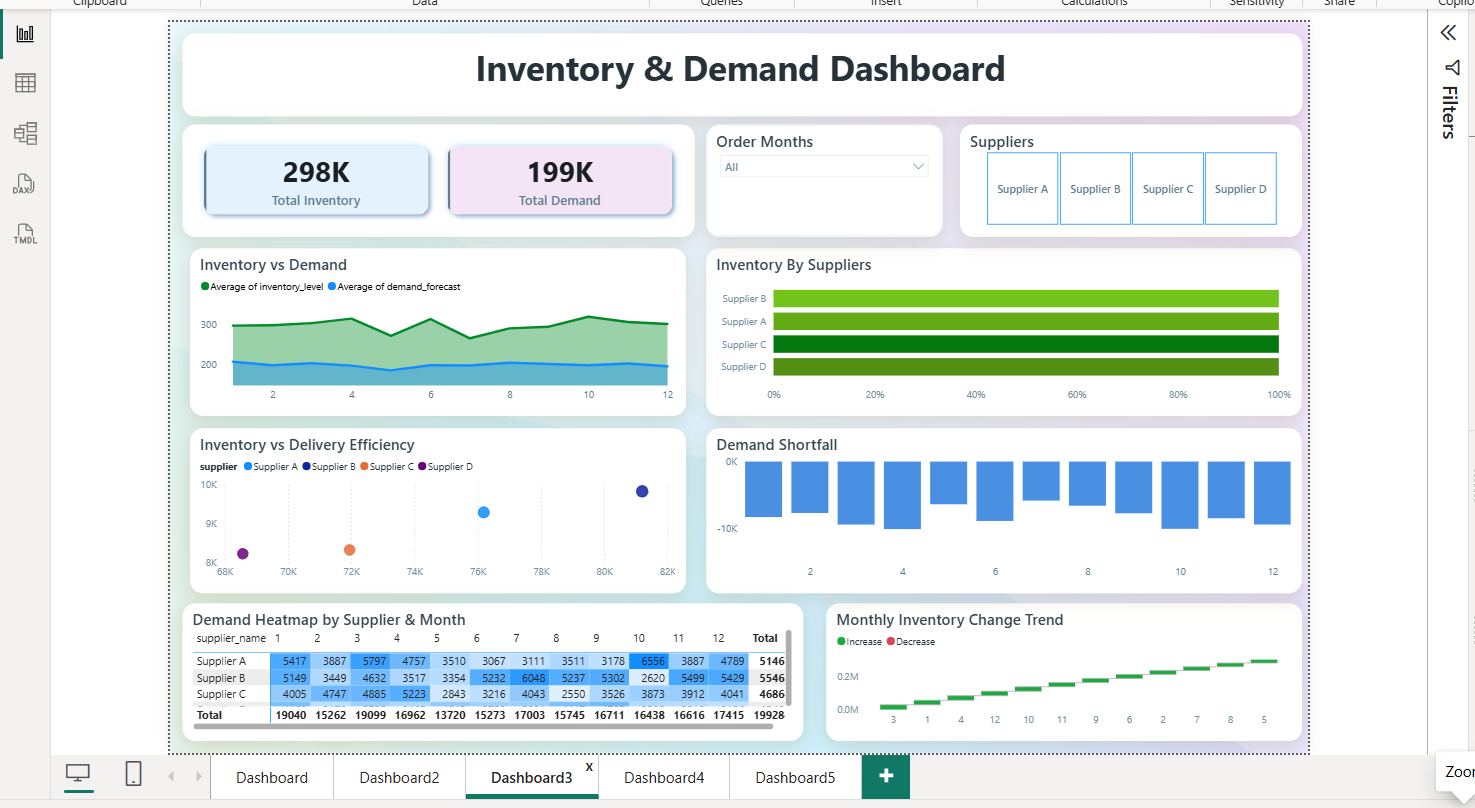

The dashboard page shown, as its layout file describes it:
{"tool":"powerbi","page":{"name":"Dashboard3","canvas":[1400,900],"ordinal":2},"visuals":[{"type":"textbox","box":[15.1,13.6,1378.4,102.5],"z":0},{"type":"cardVisual","fields":{"Data":["Sum(Supply_Chain.inventory_level)","Supply_Chain.Total Demand"]},"box":[15.1,126.7,630.4,138.7],"z":1000},{"type":"areaChart","title":"Inventory vs Demand","fields":{"Category":["Supply_Chain.order_month"],"Y":["Avg(Supply_Chain.inventory_level)","Avg(Supply_Chain.demand_forecast)"]},"box":[24.1,279,610.8,206.6],"z":2000},{"type":"hundredPercentStackedBarChart","title":"Inventory By Suppliers","fields":{"Y":["Sum(Supply_Chain.inventory_level)"],"Category":["Supply_Chain.supplier"]},"box":[660.5,279,732.9,206.6],"z":3000},{"type":"waterfallChart","title":"Monthly Inventory Change Trend","fields":{"Category":["Supply_Chain.order_month"],"Y":["Sum(Supply_Chain.inventory_level)"]},"box":[807.1,715.4,585.4,169.7],"z":4000},{"type":"clusteredColumnChart","title":"Demand Shortfall ","fields":{"Category":["Supply_Chain.order_month"],"Y":["Supply_Chain.Demand Shortfall"]},"box":[660.5,500.7,732.9,203.6],"z":5000},{"type":"scatterChart","title":"Inventory vs Delivery Efficiency","fields":{"Y":["Sum(Supply_Chain.delivery_time)"],"X":["Sum(Supply_Chain.inventory_level)"],"Series":["Supply_Chain.supplier"],"Size":["Sum(Supply_Chain.demand_forecast)"]},"box":[24.1,500.7,610.8,203.6],"z":6000},{"type":"pivotTable","title":"Demand Heatmap by Supplier & Month","fields":{"Rows":["Suppliers.supplier_name"],"Columns":["Supply_Chain.order_month"],"Values":["Sum(Supply_Chain.demand_forecast)"]},"box":[15.3,715.4,764.3,169.7],"z":7000},{"type":"slicer","title":"Order Months","fields":{"Values":["Supply_Chain.order_month"]},"box":[660.5,126.7,291.1,138.7],"z":8000},{"type":"slicer","title":"Suppliers","fields":{"Values":["Supply_Chain.supplier"]},"box":[972.7,126.7,420.7,138.7],"z":9000}]}

Visuals, with their boxes on the page's 1400x900 design canvas (x1, y1, x2, y2). These are canvas units, not pixel positions in the 1475x808 screenshot, which may show the page scaled, cropped or inside an application window:
textbox: 15,14,1394,116
cardVisual - Sum(Supply_Chain.inventory_level) x Supply_Chain.Total Demand: 15,127,646,265
"Inventory vs Demand" areaChart: 24,279,635,486
"Inventory By Suppliers" hundredPercentStackedBarChart: 660,279,1393,486
"Monthly Inventory Change Trend" waterfallChart: 807,715,1392,885
"Demand Shortfall " clusteredColumnChart: 660,501,1393,704
"Inventory vs Delivery Efficiency" scatterChart: 24,501,635,704
"Demand Heatmap by Supplier & Month" pivotTable: 15,715,780,885
"Order Months" slicer: 660,127,952,265
"Suppliers" slicer: 973,127,1393,265
